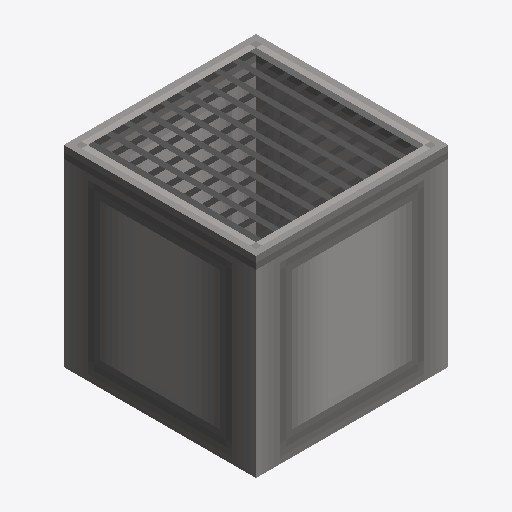
Isometric view (azimuth 45°, elevation 35.3°) of a Minecraft model made of 6 cuboids, textured from the same repository.
Parts seen in each view (by area): element 4, element 2, element 6, element 3, element 1.
Part boxes in pixels (bbox=[...]): element 4: bbox=[244, 138, 447, 477]; element 2: bbox=[76, 145, 254, 470]; element 6: bbox=[89, 48, 422, 241]; element 3: bbox=[64, 34, 266, 373]; element 1: bbox=[256, 41, 434, 234].
Size of the model in its own units: 16 by 16 by 16.